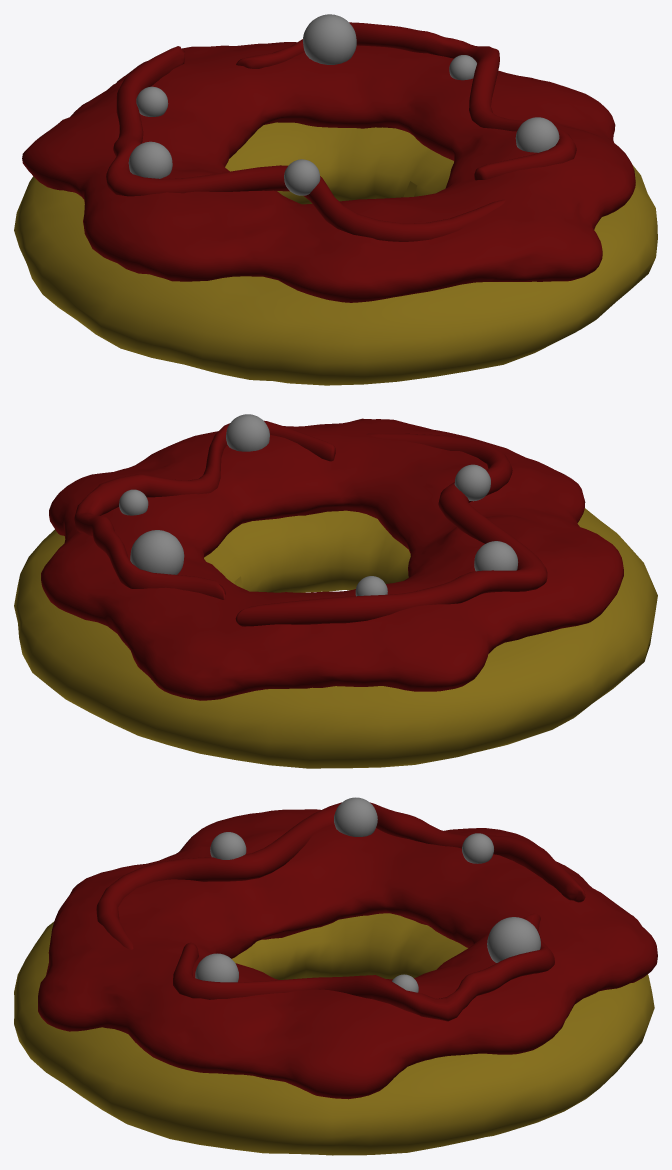
File: donut02.obj
The picture shows the model from 3 angles, top to bottom: view 1: azimuth 30°, elevation 25°; view 2: azimuth 150°, elevation 25°; view 3: azimuth 270°, elevation 25°; orthographic projection.
Parts seen in each view (by area): view 1: polySurface6polySurface1 group3, group3 polySurface1polySurface5, pCylinder12, pCylinder13, pSphere56, pSphere52, pSphere55, pSphere51, pSphere53, pSphere54; view 2: polySurface6polySurface1 group3, group3 polySurface1polySurface5, pCylinder12, pCylinder13, pSphere56, pSphere55, pSphere52, pSphere51, pSphere54, pSphere53; view 3: polySurface6polySurface1 group3, group3 polySurface1polySurface5, pCylinder12, pCylinder13, pSphere56, pSphere52, pSphere55, pSphere51, pSphere53.
Boxes of the visible parts, box(x1,y1,x2,y2) form: polySurface6polySurface1 group3: box(22, 42, 635, 302); group3 polySurface1polySurface5: box(14, 122, 657, 385); pCylinder12: box(106, 46, 505, 241); pCylinder13: box(236, 22, 576, 180); pSphere56: box(303, 14, 356, 64); pSphere52: box(128, 141, 172, 178); pSphere55: box(515, 117, 559, 152); pSphere51: box(284, 159, 320, 195); pSphere53: box(136, 86, 168, 116); pSphere54: box(449, 55, 476, 80); polySurface6polySurface1 group3: box(41, 418, 623, 700); group3 polySurface1polySurface5: box(14, 508, 657, 768); pCylinder12: box(235, 433, 547, 626); pCylinder13: box(74, 420, 335, 599); pSphere56: box(130, 530, 184, 574); pSphere55: box(226, 414, 269, 451); pSphere52: box(474, 541, 518, 571); pSphere51: box(454, 464, 490, 501); pSphere54: box(119, 489, 148, 515); pSphere53: box(355, 576, 387, 596); polySurface6polySurface1 group3: box(38, 809, 657, 1099); group3 polySurface1polySurface5: box(14, 913, 654, 1155); pCylinder12: box(96, 802, 585, 949); pCylinder13: box(173, 913, 554, 1021); pSphere56: box(487, 917, 540, 962); pSphere52: box(334, 797, 377, 836); pSphere55: box(195, 953, 238, 982); pSphere51: box(210, 832, 246, 859); pSphere53: box(462, 833, 493, 863).
Size of the model in its own units: 3.09 by 0.9496 by 3.1.
